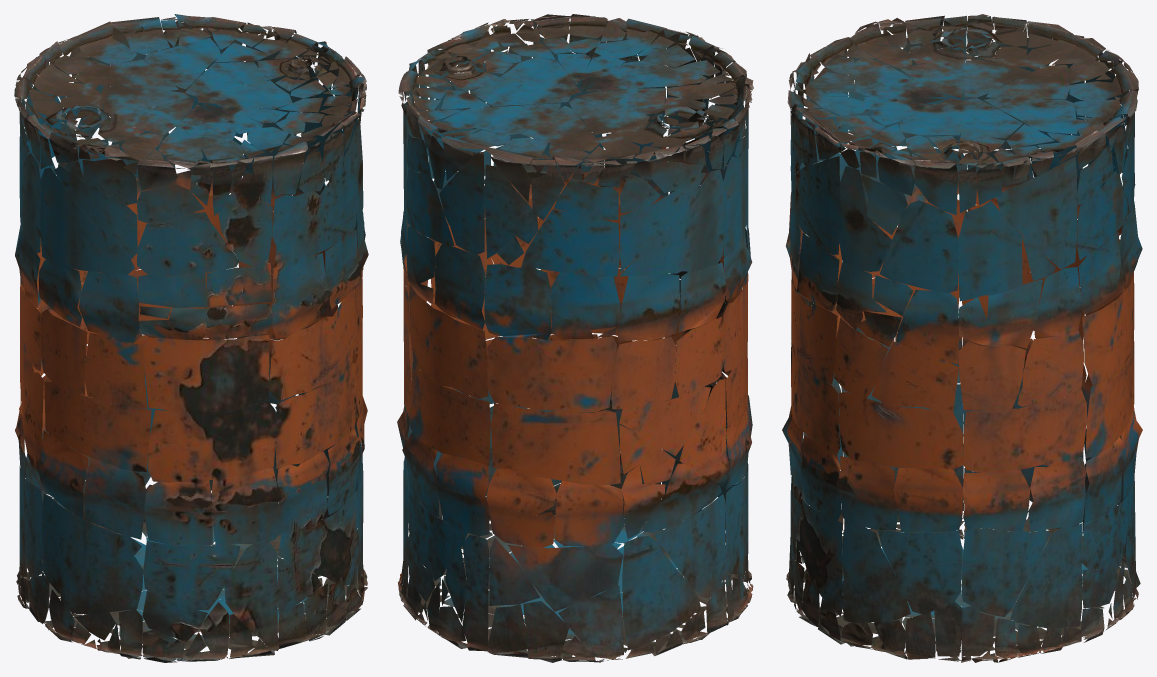
Rendered from meshy_containment_drum.glb.
3 renders of one model, left to right at view 1: azimuth 30°, elevation 25°; view 2: azimuth 150°, elevation 25°; view 3: azimuth 270°, elevation 25°, orthographic.
Parts seen in each view (by area): view 1: RecoveredContainmentDrum; view 2: RecoveredContainmentDrum; view 3: RecoveredContainmentDrum.
Boxes of the visible parts, x1,y1,x2,y2 form: RecoveredContainmentDrum: (14,14,368,662); RecoveredContainmentDrum: (397,14,753,662); RecoveredContainmentDrum: (782,14,1142,662).
Size of the model in its own units: 0.5446 by 0.8563 by 0.5499.
Materials: 1 (1 with a texture image).
